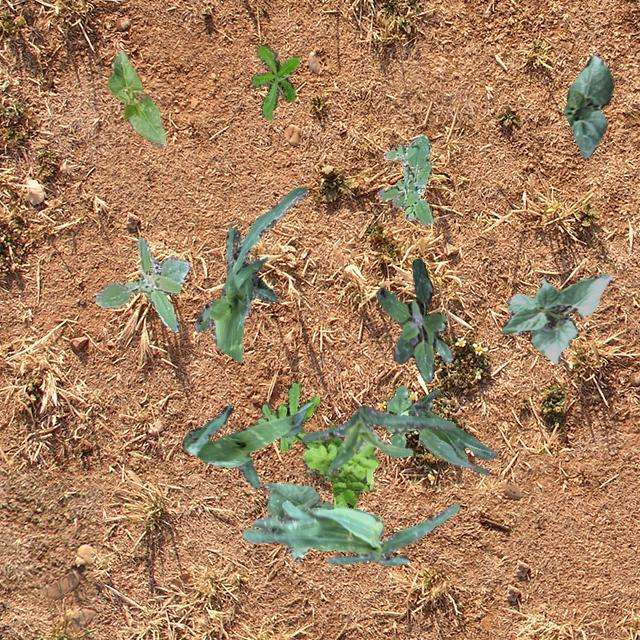crop: (194, 186, 306, 362), (242, 500, 458, 564), (180, 402, 310, 488), (300, 404, 454, 474), (501, 272, 612, 362), (412, 388, 496, 474), (106, 48, 164, 146), (262, 482, 334, 560), (564, 52, 614, 158)
weed: (374, 258, 452, 382), (94, 238, 190, 330), (302, 424, 384, 524), (376, 133, 432, 224), (256, 379, 322, 452), (248, 44, 298, 118), (385, 384, 431, 446)
